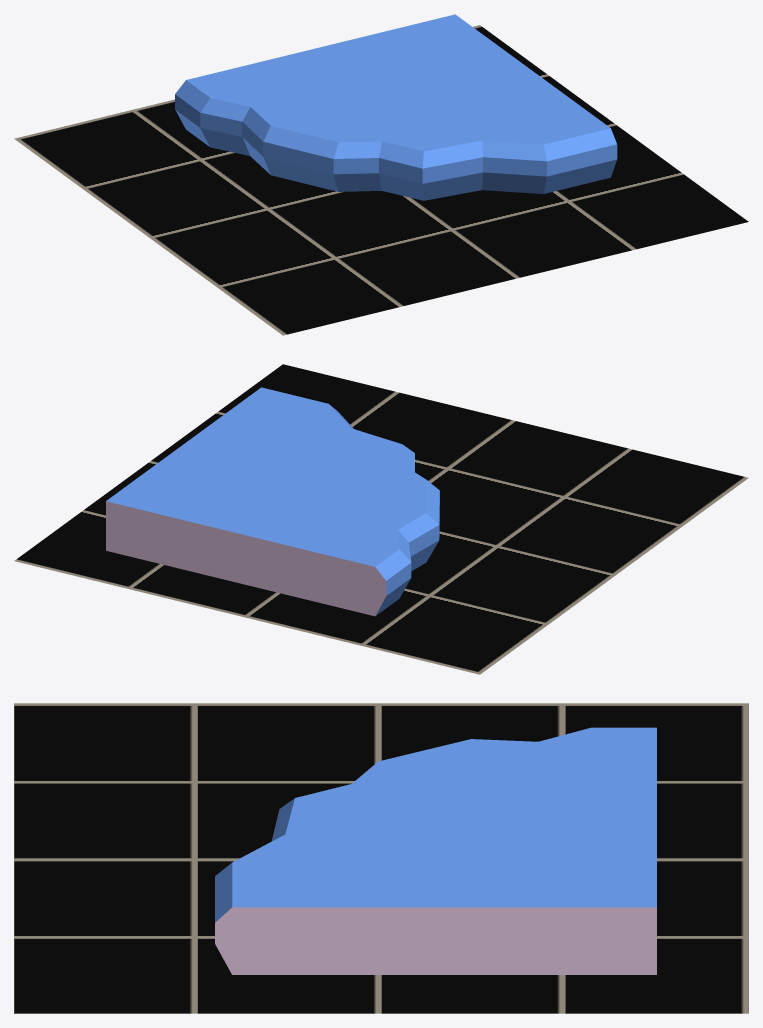
Rendered from Iceberg_Curve_Outer_3x3_1.glb.
3 renders of one model, top to bottom at view 1: azimuth 30°, elevation 25°; view 2: azimuth 150°, elevation 25°; view 3: azimuth 270°, elevation 25°, orthographic. The views are drawn at different scales.
Visible parts, largest first — view 1: Floor, Iceberg_Curve_Outer_3x3_1; view 2: Floor, Iceberg_Curve_Outer_3x3_1; view 3: Floor, Iceberg_Curve_Outer_3x3_1.
Part boxes in pixels (left/top/right/bottom): Floor: left=14, top=25, right=748, bottom=335; Iceberg_Curve_Outer_3x3_1: left=175, top=14, right=617, bottom=200; Floor: left=14, top=364, right=748, bottom=674; Iceberg_Curve_Outer_3x3_1: left=106, top=387, right=439, bottom=616; Floor: left=14, top=703, right=748, bottom=1013; Iceberg_Curve_Outer_3x3_1: left=215, top=727, right=656, bottom=974.
Bounding box in the file's own units: 400 × 40.63 × 400.
3 materials, 1 textured.
